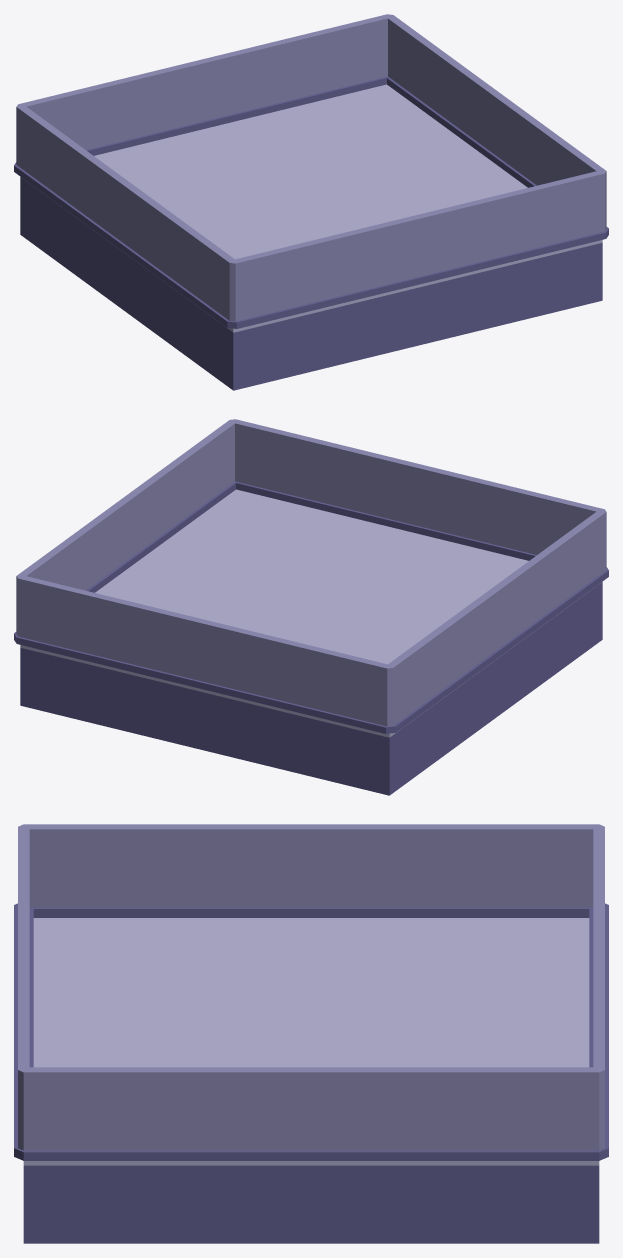
The model's file is room.glb.
3 views of the same model, one above another, from view 1: azimuth 30°, elevation 25°; view 2: azimuth 150°, elevation 25°; view 3: azimuth 270°, elevation 25° (orthographic). The views are drawn at different scales.
Visible parts, largest first — view 1: mergedBlocks(Clone); view 2: mergedBlocks(Clone); view 3: mergedBlocks(Clone).
Boxes of the visible parts, x1=… form: mergedBlocks(Clone): x1=14, y1=14, x2=608, y2=390; mergedBlocks(Clone): x1=14, y1=419, x2=608, y2=795; mergedBlocks(Clone): x1=14, y1=824, x2=608, y2=1243.
Size of the model in its own units: 6.2 by 2 by 6.2.
